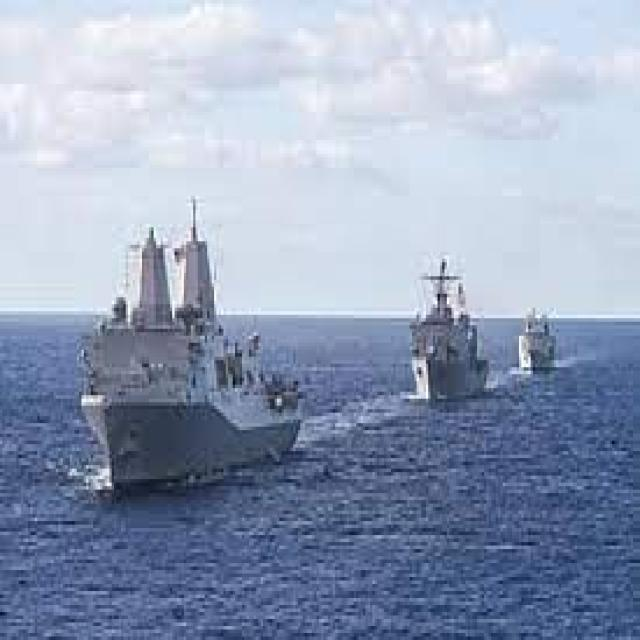navalvessels: (68, 209, 312, 486), (389, 255, 488, 405), (502, 314, 563, 376)
